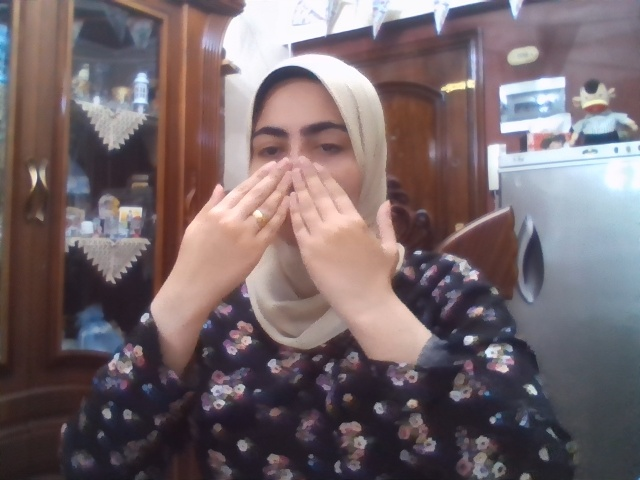thanks: (174, 156, 399, 285)
